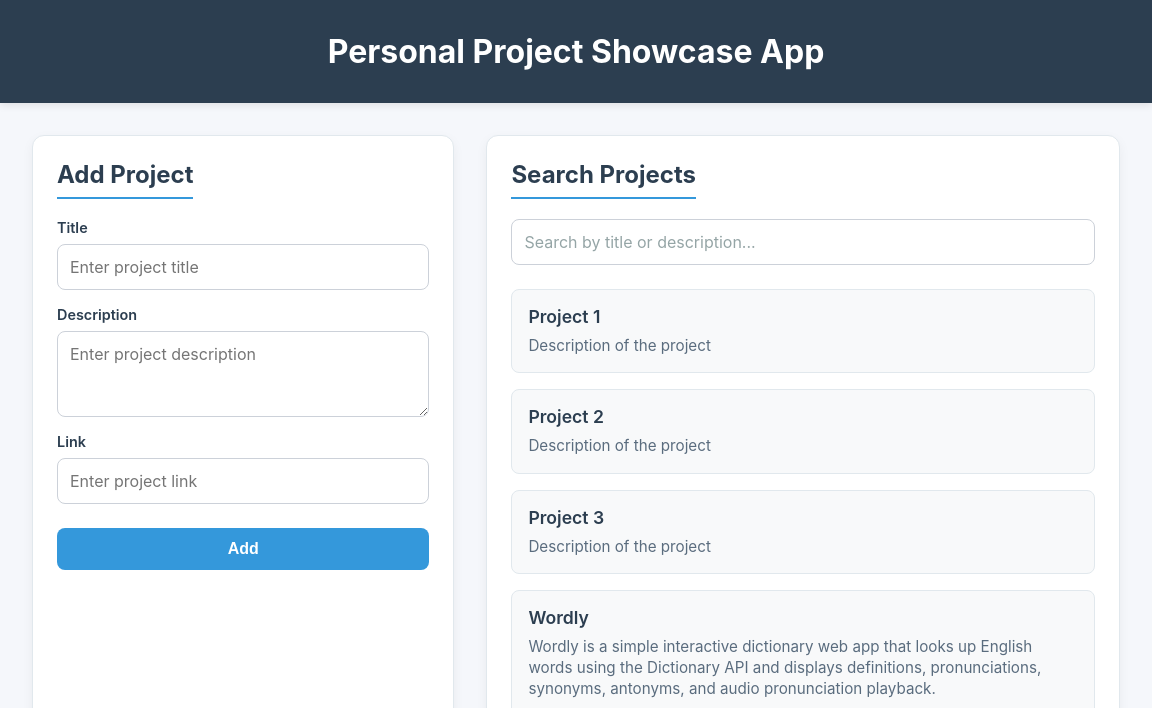
Test: App Component › can add a new project
This screenshot has width=1152, height=708.
Type "New Test Project" into the field labelled "Title" at (243, 267), box [57, 244, 429, 290]
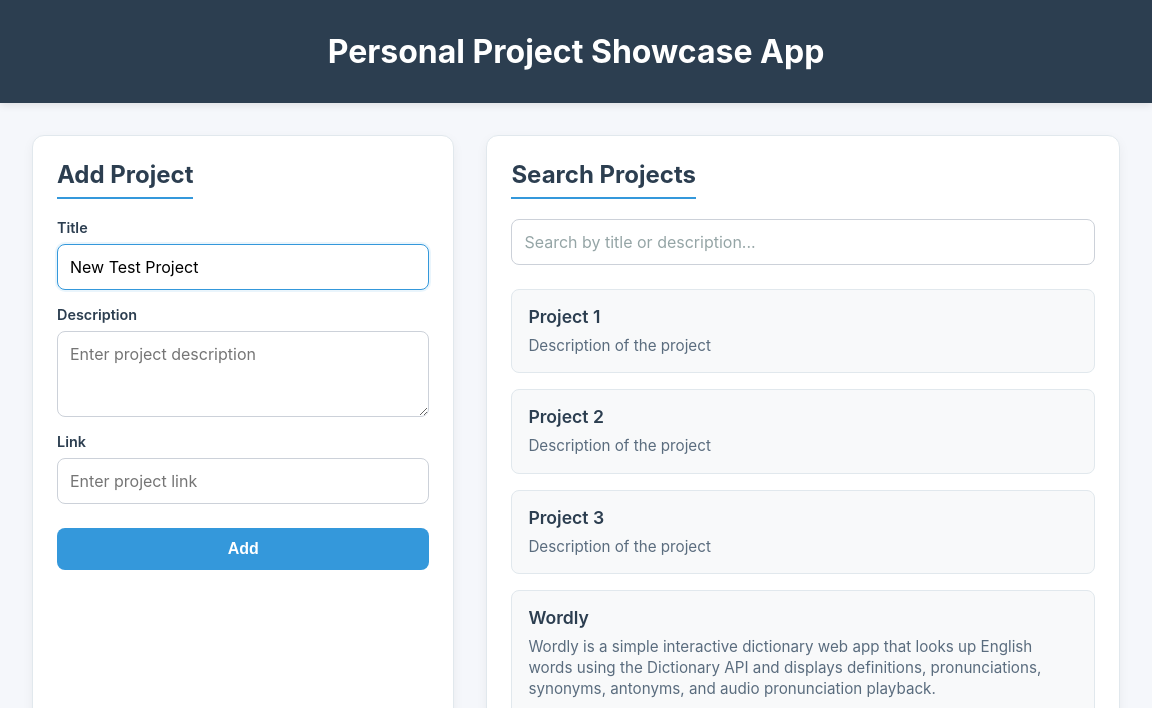
Type "This is a test project description" into the text box labelled "Description" at (243, 374), box [57, 331, 429, 417]
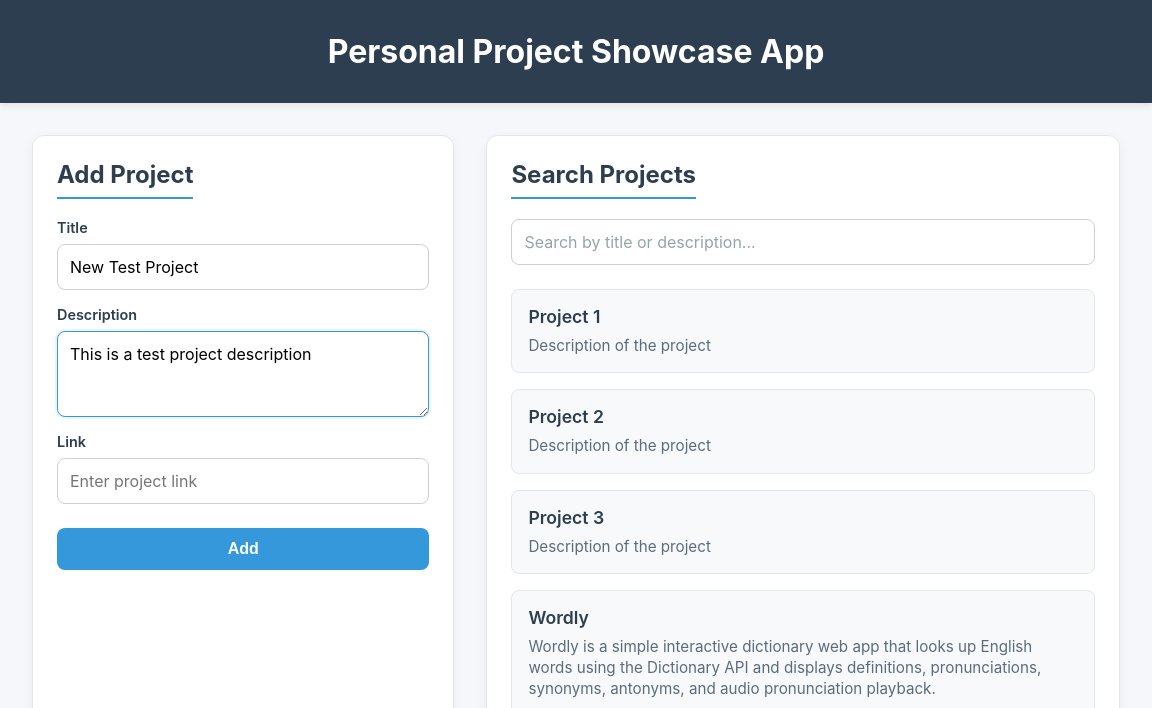
Click the button "Add" at (243, 549), box [57, 528, 429, 570]
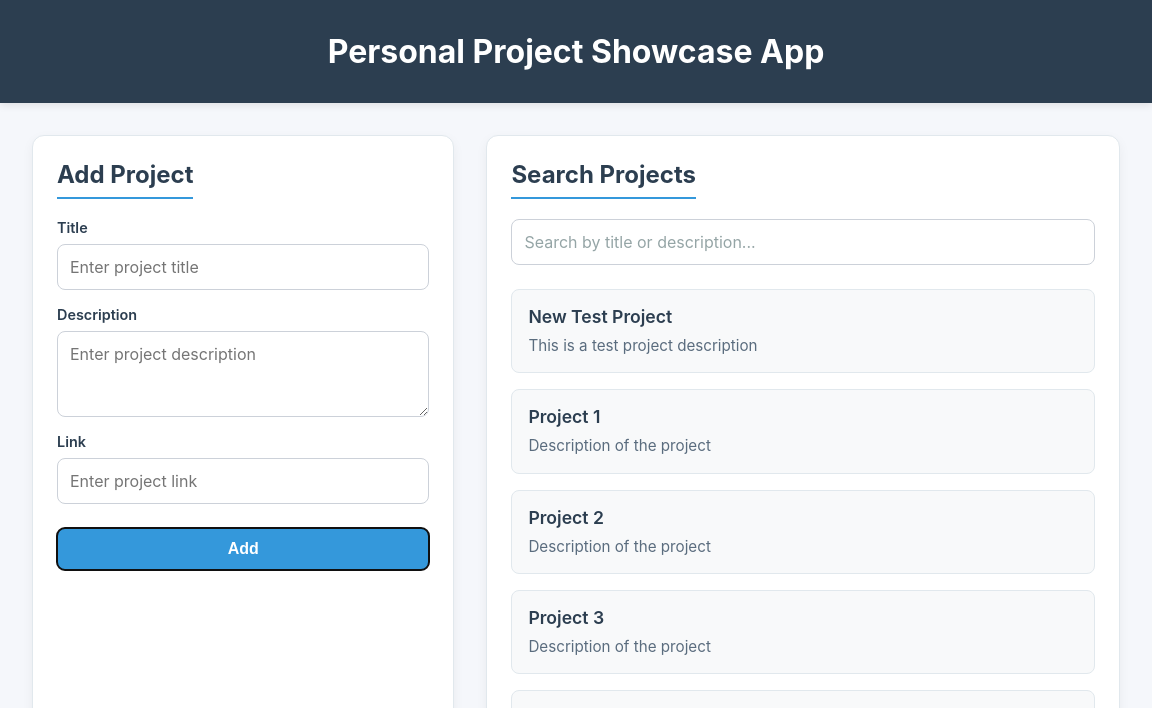
Result: the heading "New Test Project" is shown at [528, 306, 672, 327]
Result: the text "This is a test project description" is shown at [528, 336, 758, 355]
